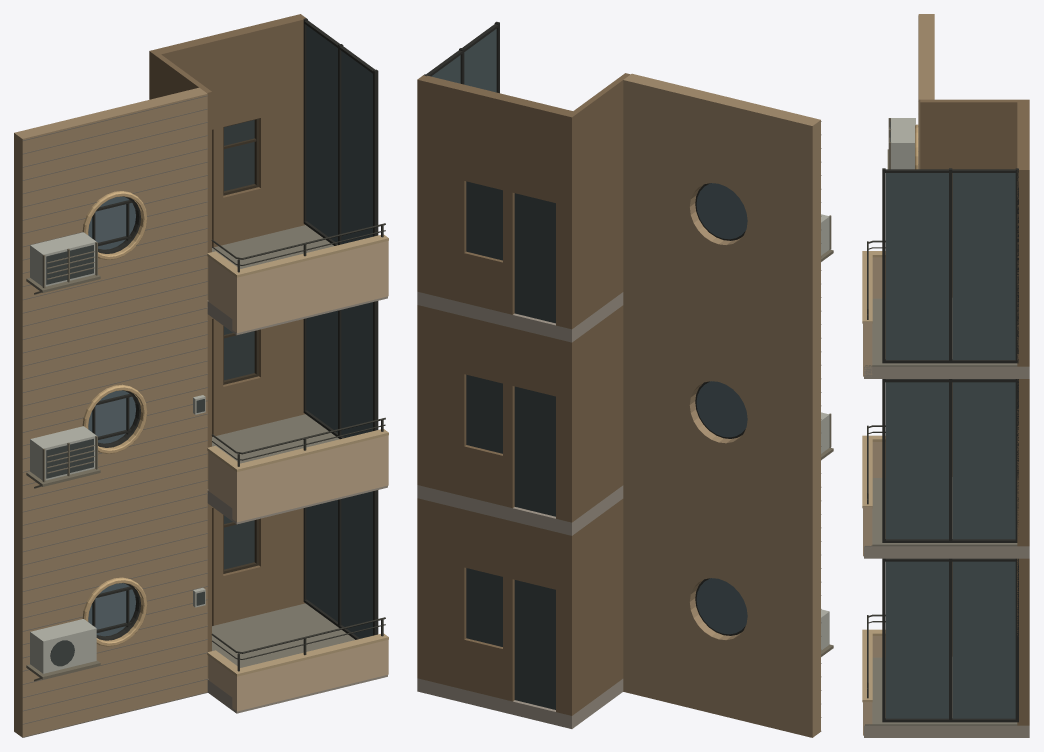
Rendered from huangpu-xile-apartments-maoming-portholes-lod.glb.
3 renders of one model, left to right at view 1: azimuth 30°, elevation 25°; view 2: azimuth 150°, elevation 25°; view 3: azimuth 270°, elevation 25°, orthographic. The views are drawn at different scales.
Visible parts, largest first — view 1: 希勒公寓茂名南路三层圆窗与悬挑阳台; view 2: 希勒公寓茂名南路三层圆窗与悬挑阳台; view 3: 希勒公寓茂名南路三层圆窗与悬挑阳台.
Boxes of the visible parts, box(x1,y1,x2,y2) form: 希勒公寓茂名南路三层圆窗与悬挑阳台: box(14, 14, 388, 737); 希勒公寓茂名南路三层圆窗与悬挑阳台: box(417, 21, 833, 737); 希勒公寓茂名南路三层圆窗与悬挑阳台: box(862, 14, 1029, 737).
Size of the model in its own units: 5.98 by 10.16 by 2.71.
